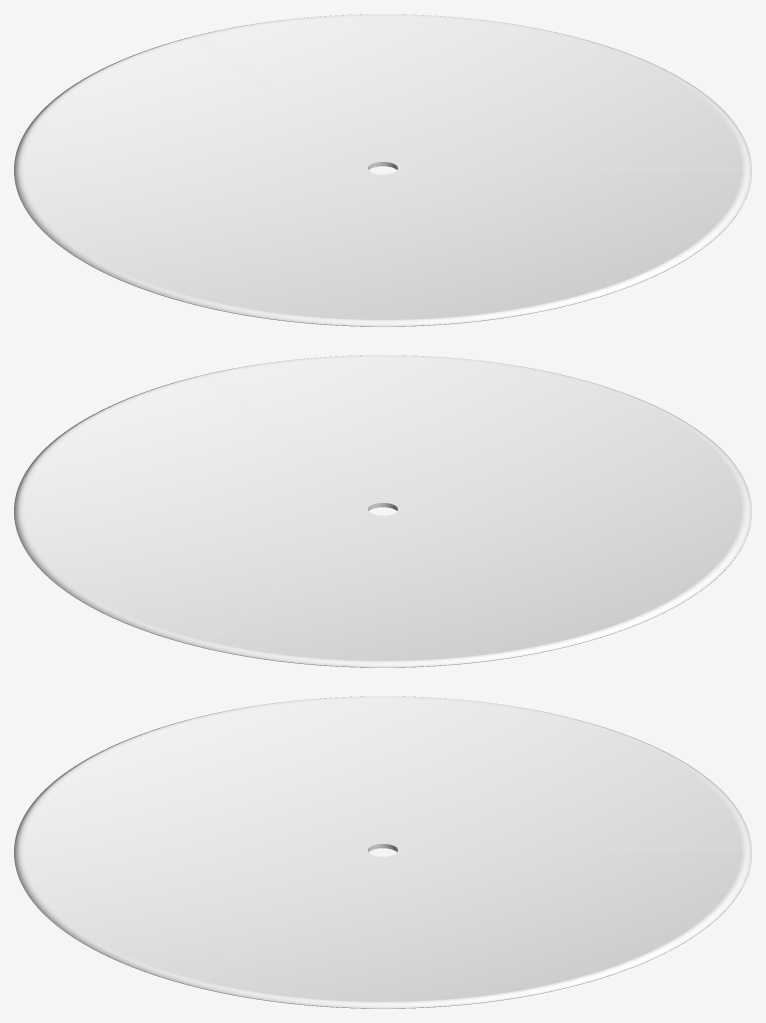
The model's file is vinyl_7_small_heavy.dae.
3 renders of one model, top to bottom at view 1: azimuth 30°, elevation 25°; view 2: azimuth 150°, elevation 25°; view 3: azimuth 270°, elevation 25°, orthographic.
Parts seen in each view (by area): view 1: vinyl; view 2: vinyl; view 3: vinyl.
Part boxes in pixels (x1,y1,x2,y2): vinyl: (14,14,751,326); vinyl: (14,355,751,667); vinyl: (14,696,751,1008).
Size of the model in its own units: 17 by 0.1701 by 17.
Materials: 1 (1 with a texture image).
